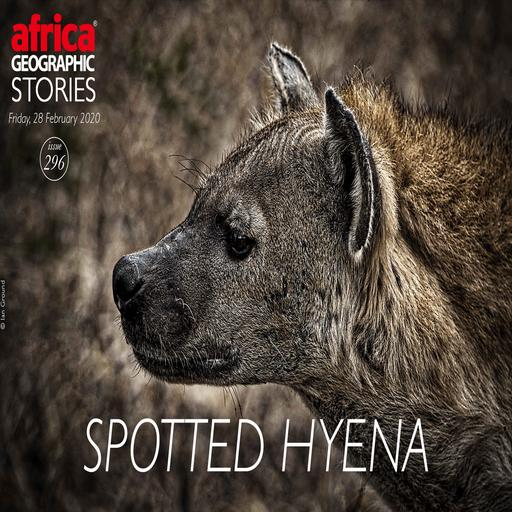Hyena: (112, 38, 512, 509)
